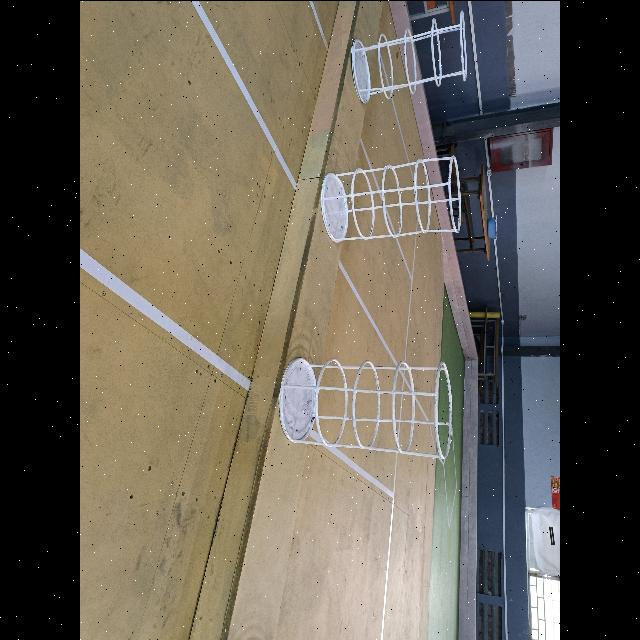S: (278, 356, 453, 458), (318, 155, 462, 242), (350, 9, 467, 103)
